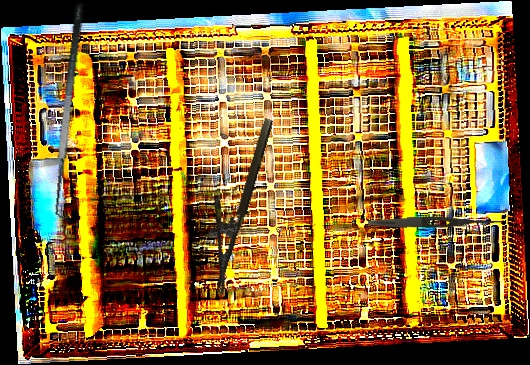Dressing Forceps: (367, 214, 504, 230)
Needle Holder: (188, 110, 276, 296)
Spatula Surgical: (43, 1, 103, 224)
